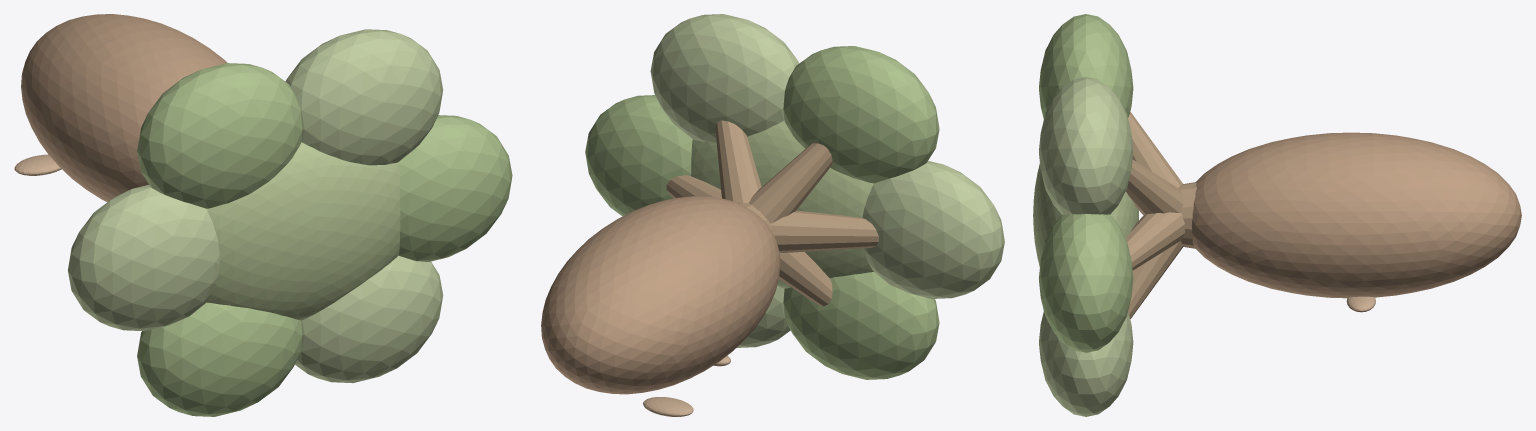
File: baobab.glb
The picture shows the model from 3 angles, left to right: view 1: azimuth 30°, elevation 25°; view 2: azimuth 150°, elevation 25°; view 3: azimuth 270°, elevation 25°; orthographic projection. The views are drawn at different scales.
Parts seen in each view (by area): view 1: baobab_014, baobab_000, baobab_007, baobab_009, baobab_005, baobab_011, baobab_003, baobab_013, baobab_015; view 2: baobab_000, baobab_007, baobab_009, baobab_005, baobab_011, baobab_003, baobab_014, baobab_008, baobab_006, baobab_004, baobab_010, baobab_013 (+2 smaller); view 3: baobab_000, baobab_003, baobab_005, baobab_013, baobab_007, baobab_002, baobab_014, baobab_004, baobab_012, baobab_006, baobab_001.
Part boxes in pixels (x1,y1,x2,y2): baobab_014: (207,142,400,320); baobab_000: (21,14,227,202); baobab_007: (137,63,302,208); baobab_009: (68,185,219,331); baobab_005: (285,29,443,165); baobab_011: (137,302,302,416); baobab_003: (398,115,512,261); baobab_013: (295,255,443,383); baobab_015: (14,154,61,175); baobab_000: (541,196,780,394); baobab_007: (783,46,939,183); baobab_009: (862,160,1004,298); baobab_005: (650,14,799,142); baobab_011: (783,272,939,379); baobab_003: (585,95,692,216); baobab_014: (691,120,873,288); baobab_008: (770,210,878,252); baobab_006: (749,143,832,223); baobab_004: (715,120,761,203); baobab_010: (779,252,832,306); baobab_013: (737,286,790,347); baobab_000: (1191,132,1521,298); baobab_003: (1039,213,1133,352); baobab_005: (1039,77,1133,214); baobab_013: (1039,311,1133,416); baobab_007: (1039,14,1133,119); baobab_002: (1126,212,1185,270); baobab_014: (1033,163,1138,267); baobab_004: (1125,159,1183,214); baobab_012: (1128,241,1183,318); baobab_006: (1128,112,1182,187); baobab_001: (1178,182,1196,248).
Size of the model in its own units: 3.28 by 2.47 by 3.41.
